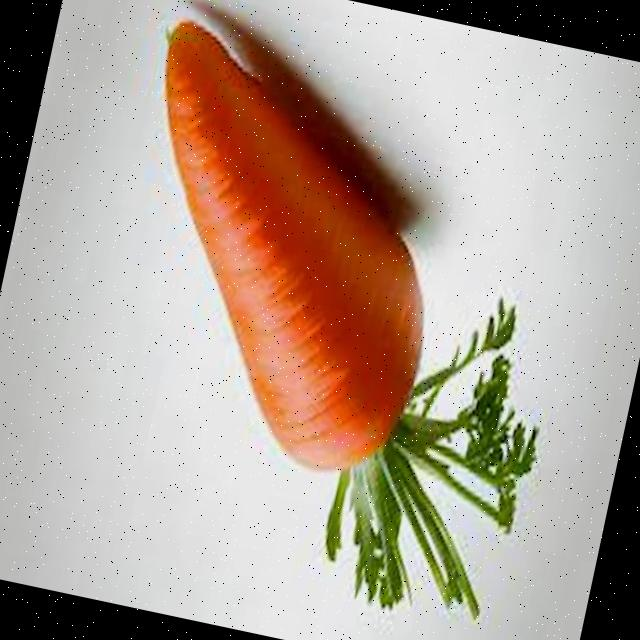carrot: (164, 21, 535, 617)
